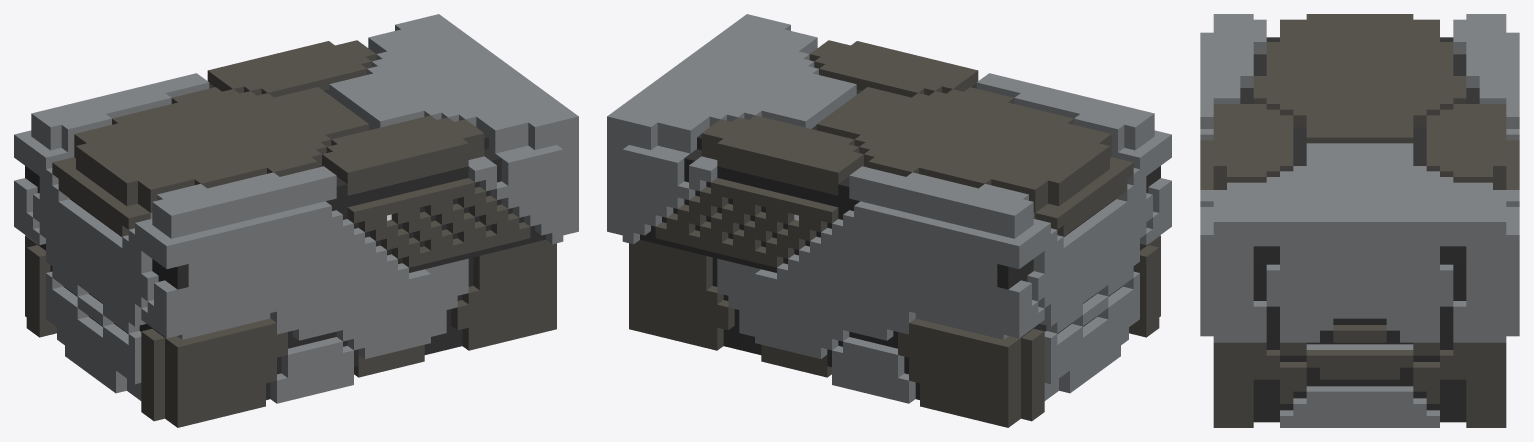
File: Head-1.obj
The picture shows the model from 3 angles, left to right: view 1: azimuth 30°, elevation 25°; view 2: azimuth 150°, elevation 25°; view 3: azimuth 270°, elevation 25°; orthographic projection. The views are drawn at different scales.
Bounding box in the file's own units: 3.8 × 1.8 × 2.4.
Materials: 1 (1 with a texture image).
